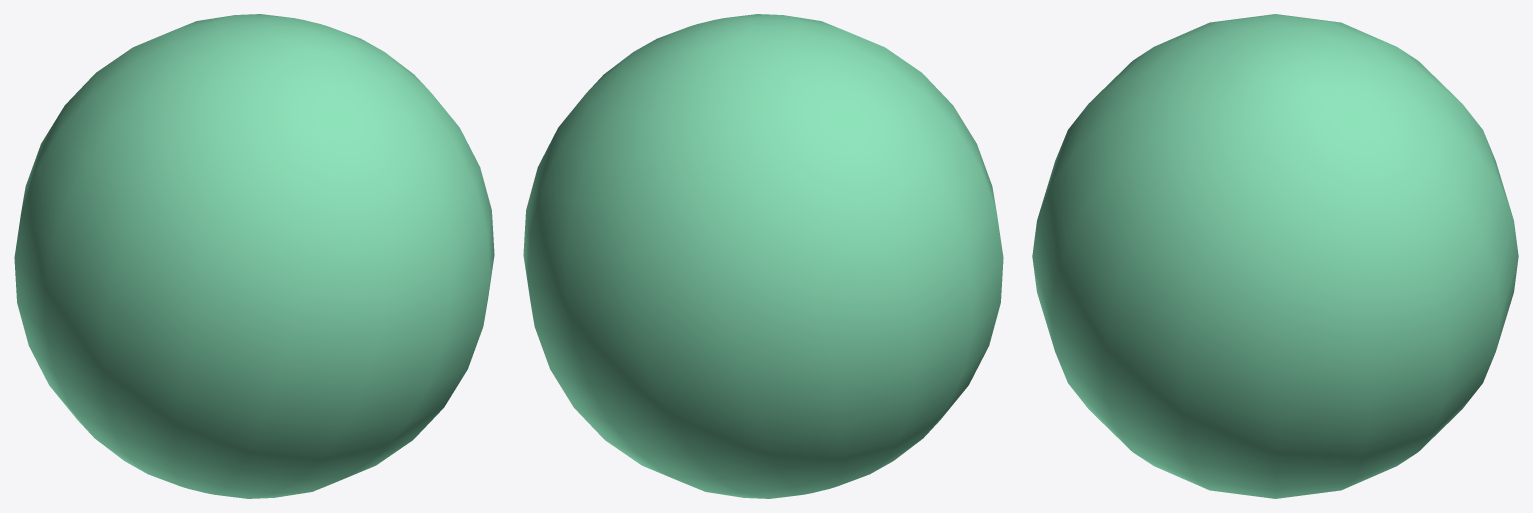
3 views of the same model, side by side, from view 1: azimuth 30°, elevation 25°; view 2: azimuth 150°, elevation 25°; view 3: azimuth 270°, elevation 25° (orthographic).
Parts seen in each view (by area): view 1: orbinside5; view 2: orbinside5; view 3: orbinside5.
Part boxes in pixels (x1,y1,x2,y2): orbinside5: (14,14,494,498); orbinside5: (523,14,1003,498); orbinside5: (1032,14,1518,498).
Size of the model in its own units: 0.3988 by 0.3988 by 0.4.
